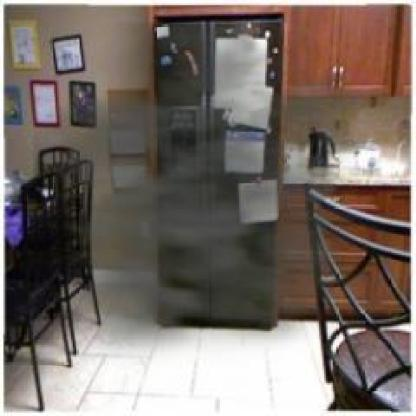Smoke: (34, 22, 403, 368)
